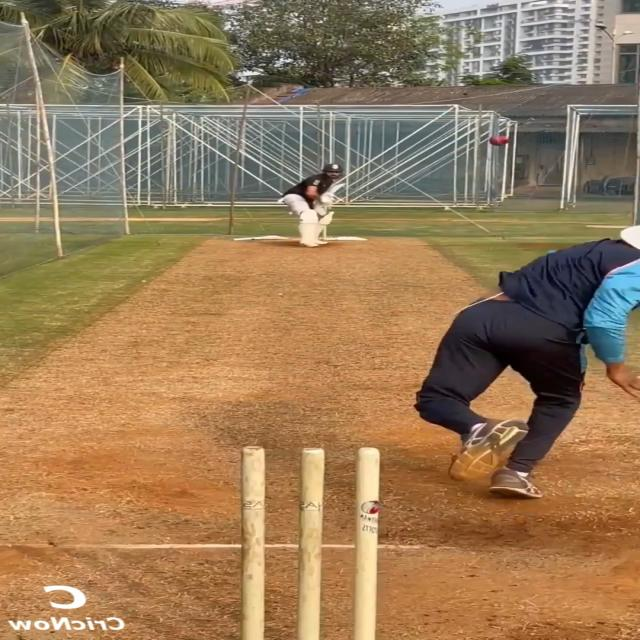ball: (489, 135, 509, 146)
stump: (239, 446, 381, 640)
